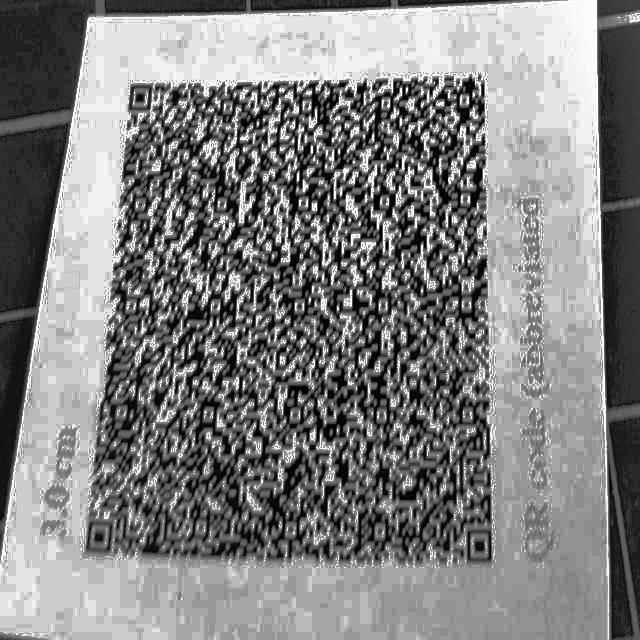qr_code: (74, 64, 513, 578)
